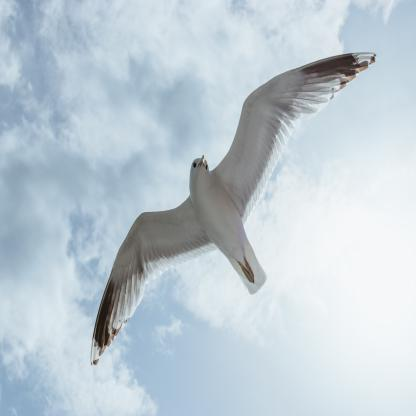bird: (89, 52, 376, 368)
